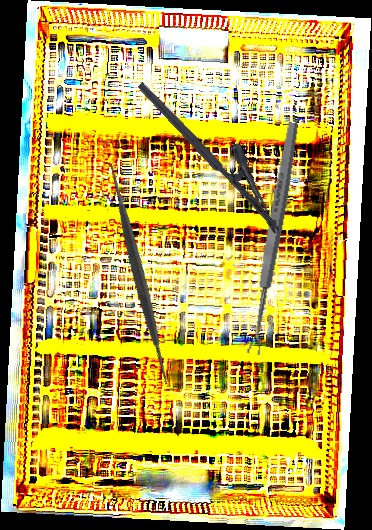Needle Holder: (136, 62, 301, 235)
Spatula Surgical: (18, 153, 260, 394)
Surgical Spoon: (244, 121, 302, 356)
